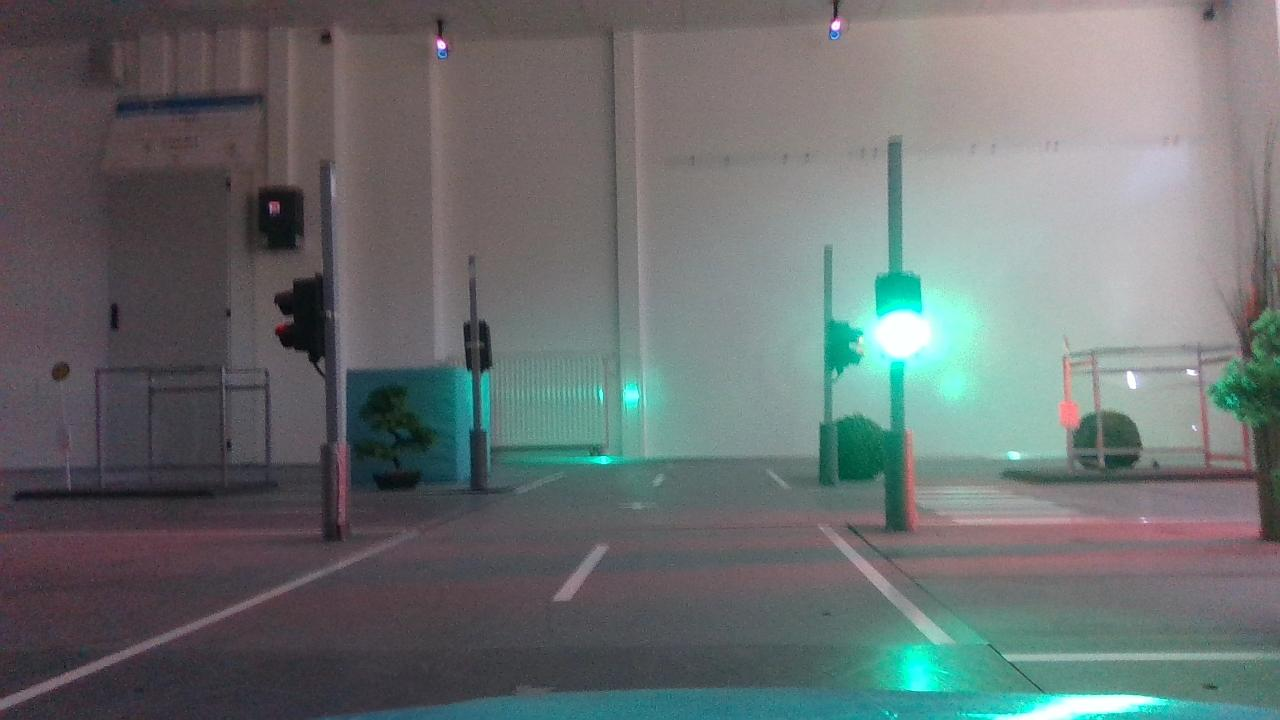traffic_light_green: (868, 267, 934, 367)
